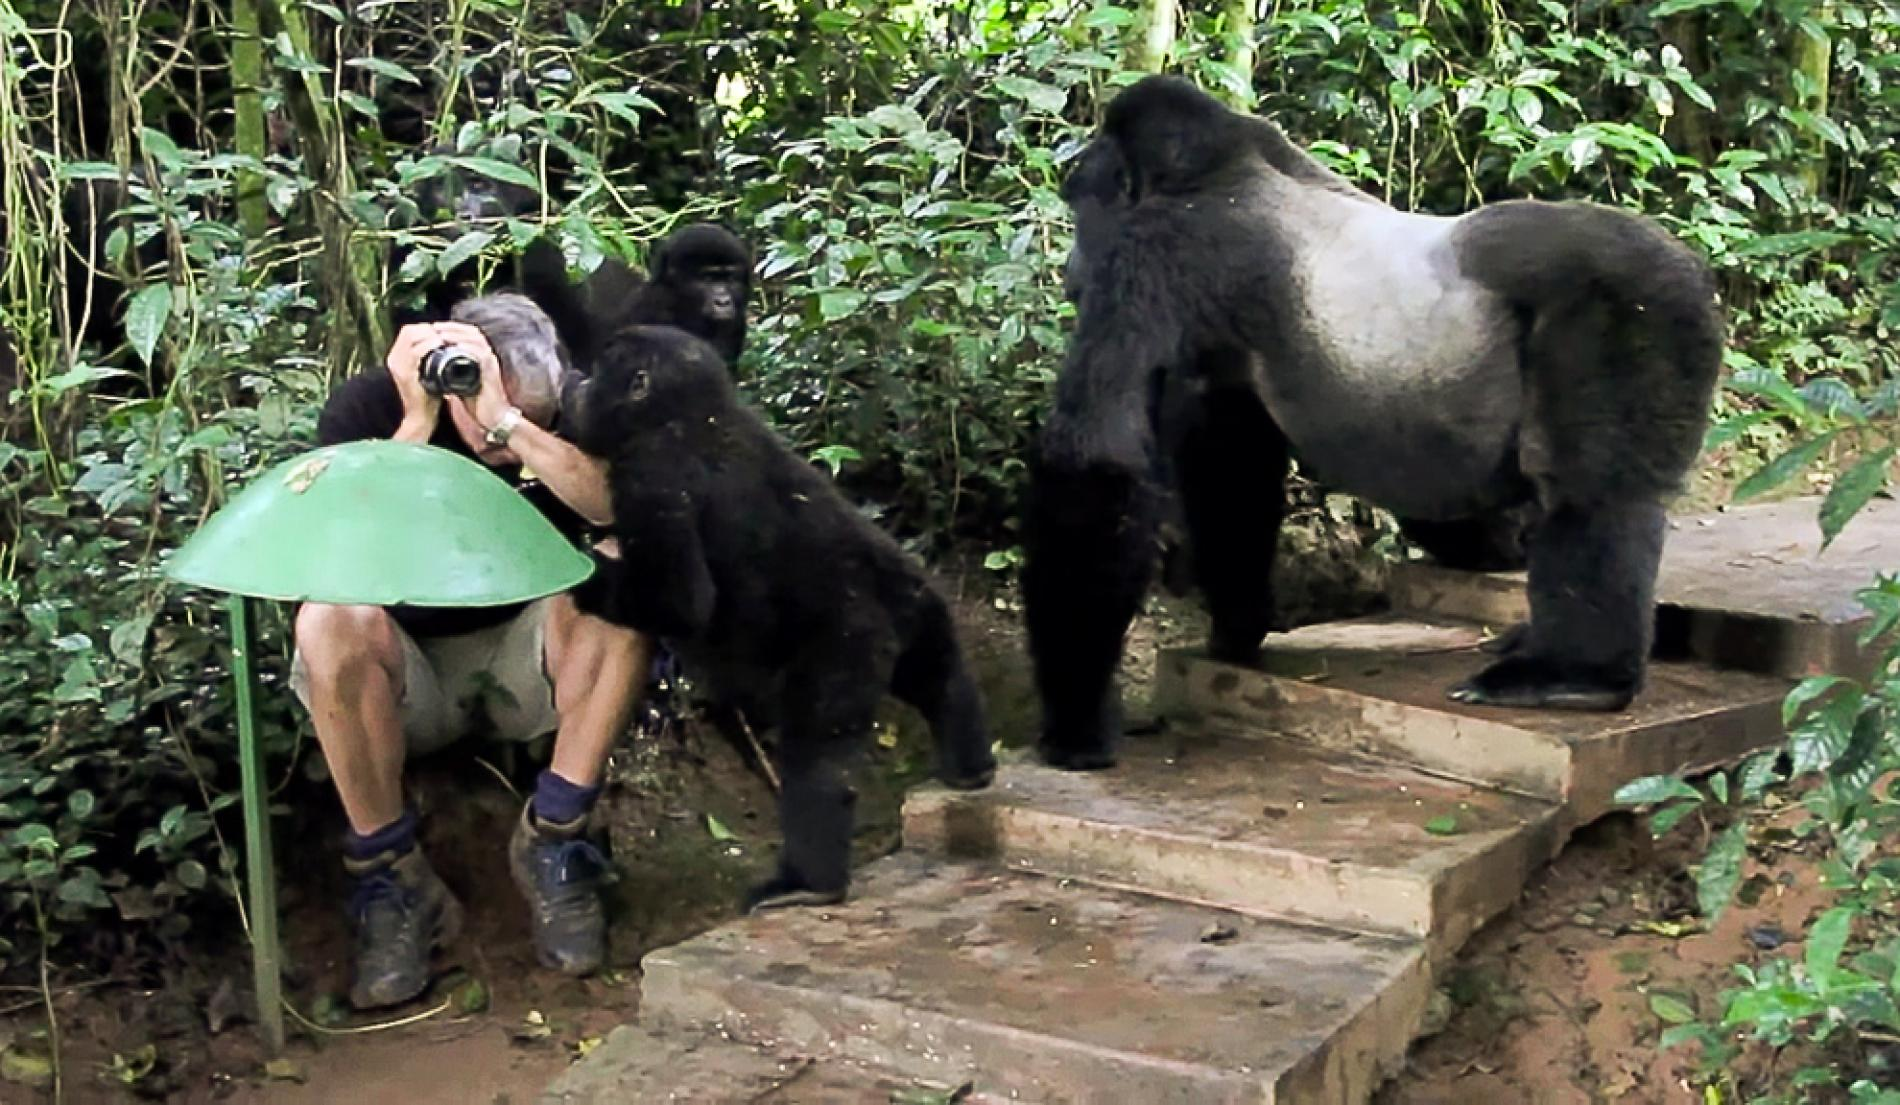Goriila: (964, 53, 1857, 863)
